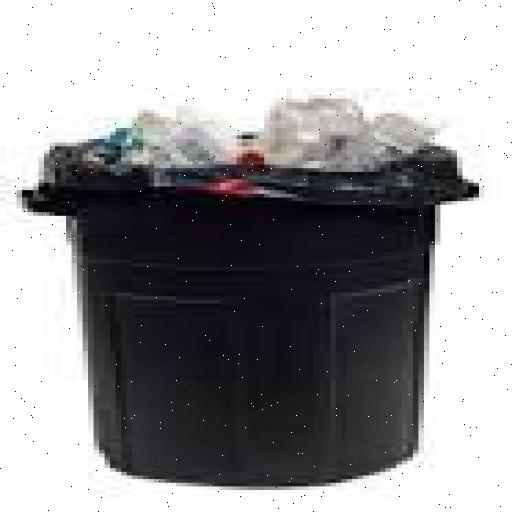poubelle_pleine: (0, 90, 481, 490)
